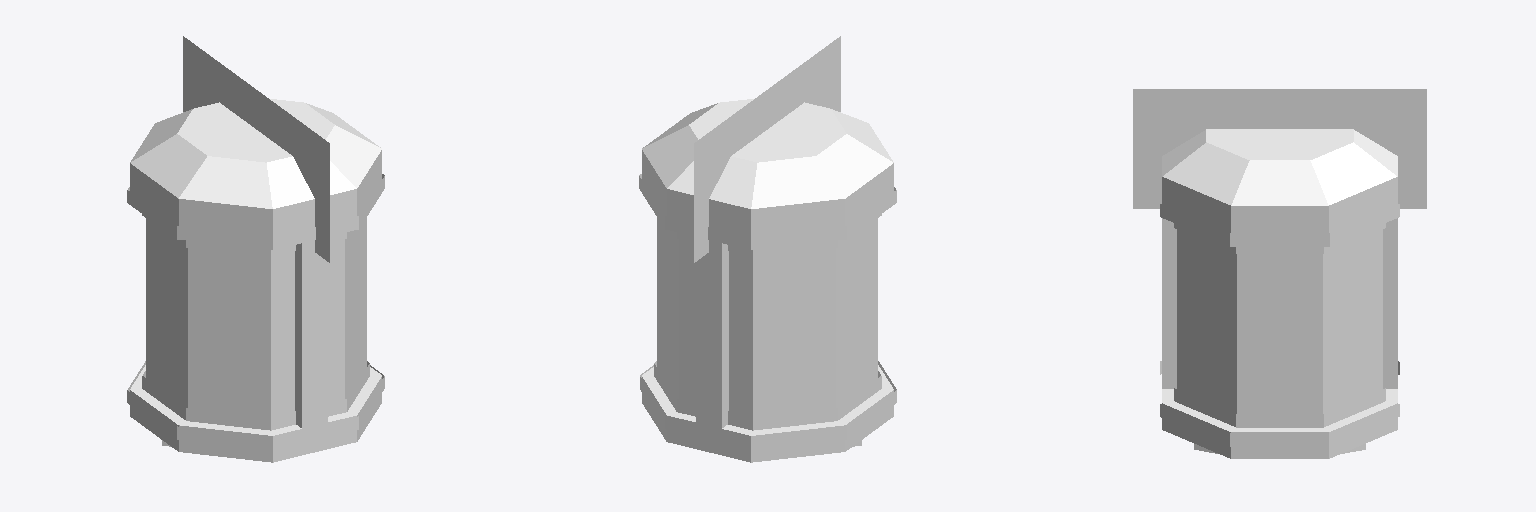
File: bronze_lantern_ground.obj
3 renders of one model, left to right at view 1: azimuth 30°, elevation 25°; view 2: azimuth 150°, elevation 25°; view 3: azimuth 270°, elevation 25°, orthographic.
Parts seen in each view (by area): view 1: cylinder.005, cylinder.000, cube.002, cube, cylinder, cylinder.004, cylinder.001, cylinder.003, cylinder.002; view 2: cylinder.005, cylinder.000, cube.002, cube, cylinder, cylinder.004, cylinder.001, cylinder.003, cylinder.002; view 3: cylinder.005, cylinder.000, cube.002, cube, cylinder, cylinder.004, cylinder.001, cylinder.003, cylinder.002.
Part boxes in pixels (x1,y1,x2,y2): cylinder.005: (146,218,366,416); cylinder.000: (130,99,381,236); cube.002: (183,36,329,262); cube: (295,240,327,428); cylinder: (130,365,381,462); cylinder.004: (127,361,384,450); cylinder.001: (127,174,384,249); cylinder.003: (142,361,369,430); cylinder.002: (142,214,351,256); cylinder.005: (657,218,877,416); cylinder.000: (642,99,893,236); cube.002: (694,36,840,262); cube: (696,240,728,428); cylinder: (642,365,893,462); cylinder.004: (640,361,896,449); cylinder.001: (639,174,896,249); cylinder.003: (654,361,881,430); cylinder.002: (672,214,881,256); cylinder.005: (1177,229,1382,413); cylinder.000: (1162,129,1397,232); cube.002: (1133,89,1426,208); cube: (1162,218,1397,388); cylinder: (1162,389,1397,458); cylinder.004: (1160,361,1399,446); cylinder.001: (1160,204,1399,246); cylinder.003: (1174,388,1385,427); cylinder.002: (1174,223,1385,253).
Size of the model in its own units: 0.5102 by 0.7812 by 0.625.